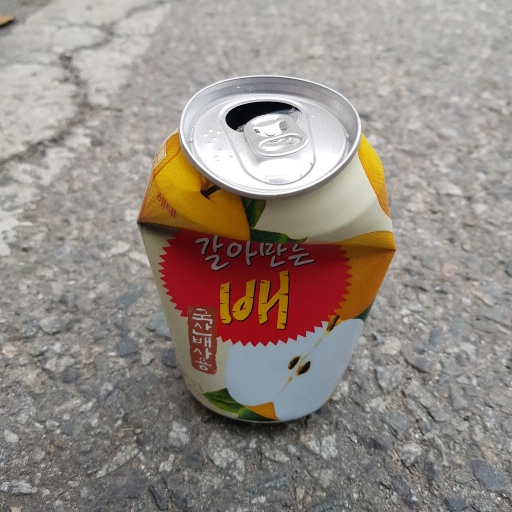Metal_0: (135, 73, 401, 423)
